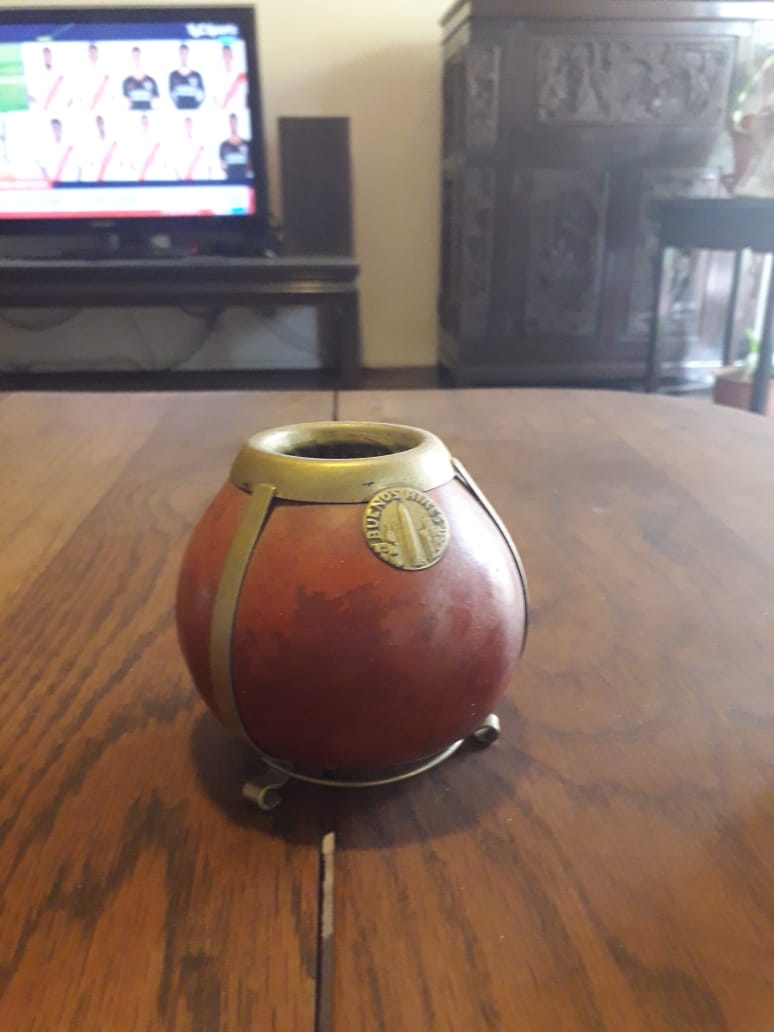calabaza: (169, 417, 537, 811)
mate: (171, 419, 539, 813)
